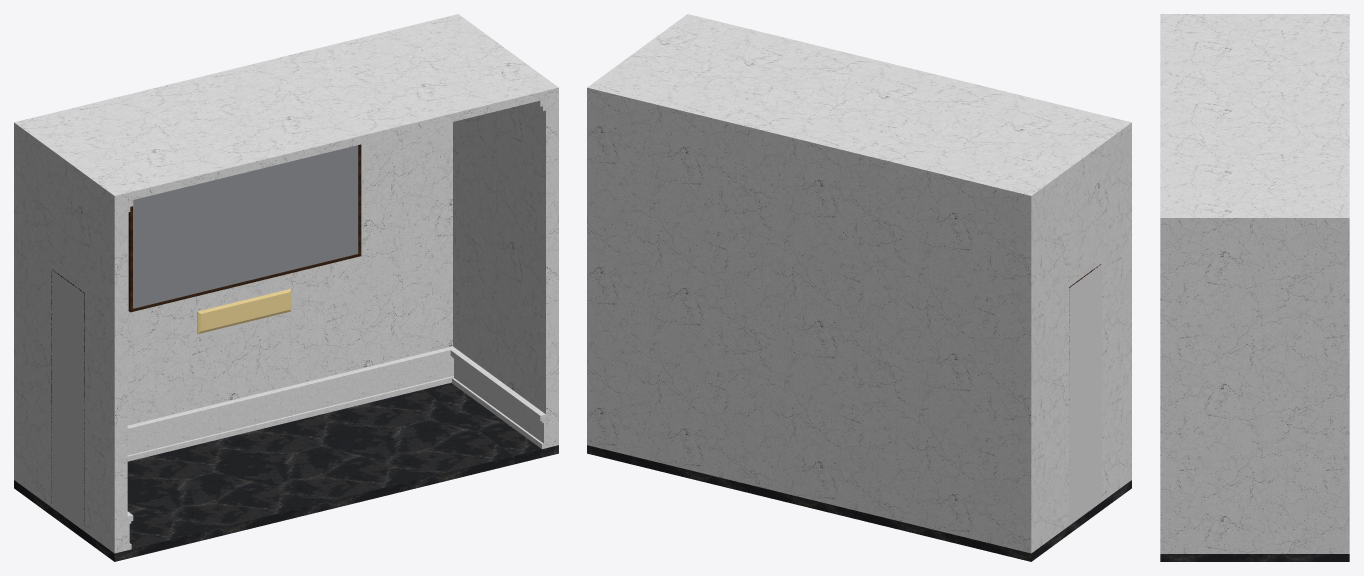
The model's file is gallery.glb.
3 renders of one model, left to right at view 1: azimuth 30°, elevation 25°; view 2: azimuth 150°, elevation 25°; view 3: azimuth 270°, elevation 25°, orthographic. The views are drawn at different scales.
Visible parts, largest first — view 1: Bay_Wall, Bay_Ceiling, CapR_Wall, Bay_Floor, CapL_Wall, Panel_Artwork_Hit, Bay_Wainscot, Trigger_ToLobby, CapL_Ceiling, CapR_Ceiling, CapR_Wainscot, CapR_Floor (+4 smaller); view 2: Bay_Wall, CapL_Wall, Bay_Ceiling, CapR_Wall, Trigger_ToLobby, CapL_Ceiling, CapR_Ceiling, Bay_Floor, CapL_Floor; view 3: CapR_Wall, Bay_Ceiling, CapR_Ceiling, CapL_Ceiling, CapR_Floor.
Boxes of the visible parts, left/top/right/bottom form: Bay_Wall: left=127, top=129, right=421, bottom=425; Bay_Ceiling: left=59, top=25, right=514, bottom=193; CapR_Wall: left=421, top=96, right=558, bottom=448; Bay_Floor: left=127, top=389, right=514, bottom=550; CapL_Wall: left=14, top=131, right=127, bottom=553; Panel_Artwork_Hit: left=133, top=145, right=358, bottom=308; Bay_Wainscot: left=127, top=354, right=424, bottom=461; Trigger_ToLobby: left=51, top=268, right=84, bottom=531; CapL_Ceiling: left=14, top=111, right=159, bottom=204; CapR_Ceiling: left=413, top=14, right=558, bottom=106; CapR_Wainscot: left=421, top=346, right=545, bottom=448; CapR_Floor: left=423, top=382, right=558, bottom=464; Bay_Wall: left=631, top=107, right=986, bottom=542; CapL_Wall: left=986, top=131, right=1131, bottom=553; Bay_Ceiling: left=631, top=25, right=1086, bottom=193; CapR_Wall: left=587, top=96, right=632, bottom=455; Trigger_ToLobby: left=1069, top=263, right=1101, bottom=525; CapL_Ceiling: left=986, top=111, right=1131, bottom=204; CapR_Ceiling: left=587, top=14, right=732, bottom=106; Bay_Floor: left=631, top=456, right=986, bottom=550; CapL_Floor: left=986, top=480, right=1131, bottom=561; CapR_Wall: left=1160, top=226, right=1349, bottom=553; Bay_Ceiling: left=1160, top=34, right=1349, bottom=197; CapR_Ceiling: left=1160, top=197, right=1349, bottom=225; CapL_Ceiling: left=1160, top=14, right=1349, bottom=34; CapR_Floor: left=1160, top=554, right=1349, bottom=561.
Size of what is drawn, in the model's own units: 8.26 by 6.5 by 3.24.
9 materials, 7 textured.
